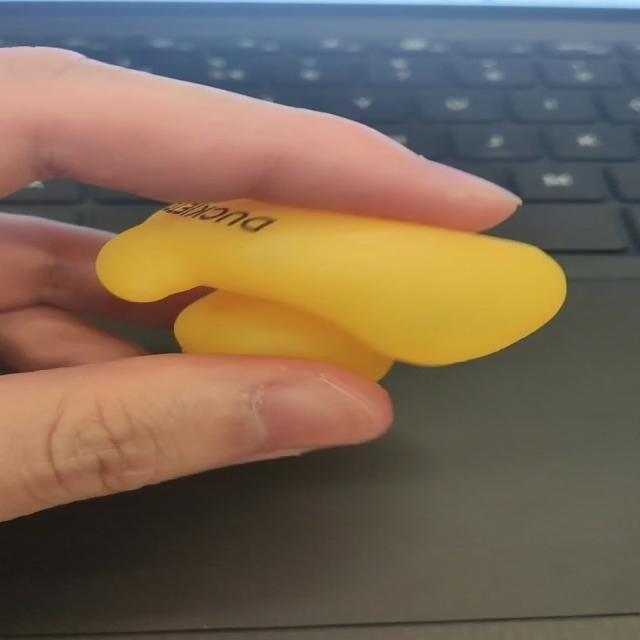rubber-duck: (96, 198, 564, 377)
